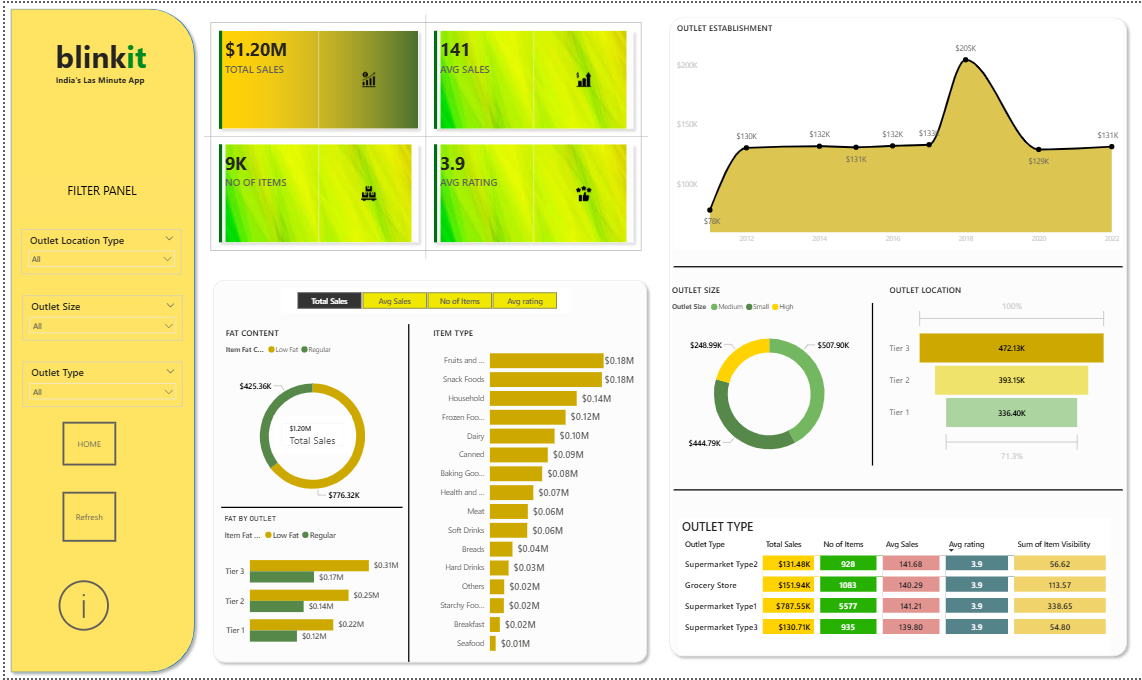

The dashboard page shown, as its layout file describes it:
{"tool":"powerbi","page":{"name":"Page 1","canvas":[1820,1080],"ordinal":0},"visuals":[{"type":"shape","box":[0,0,312.5,1080],"z":0},{"type":"textbox","box":[25,30,255,120],"z":1000},{"type":"textbox","box":[323,0,313,1080],"z":2000},{"type":"textbox","box":[76.7,108.3,170,41.7],"z":3000},{"type":"cardVisual","fields":{"Data":["BlinkIT Grocery Data.Total Sales","BlinkIT Grocery Data.Avg Sales","BlinkIT Grocery Data.No of Items","BlinkIT Grocery Data.Avg rating"]},"box":[312,14,724,400],"z":4000},{"type":"shape","box":[324,434,712,630],"z":5000},{"type":"donutChart","title":"FAT CONTENT","fields":{"Y":["BlinkIT Grocery Data.Total Sales"],"Category":["BlinkIT Grocery Data.Item Fat Content"]},"box":[348.3,518.3,288.3,305],"z":6000},{"type":"slicer","fields":{"Values":["Matrix.Matrix"]},"box":[441.7,455,465,40],"z":7000},{"type":"cardVisual","fields":{"Data":["BlinkIT Grocery Data.Total Sales"]},"box":[430,660,125,61.7],"z":8000},{"type":"clusteredBarChart","title":"FAT BY OUTLET","fields":{"Y":["BlinkIT Grocery Data.Total Sales"],"Category":["BlinkIT Grocery Data.Outlet Location Type"],"Series":["BlinkIT Grocery Data.Item Fat Content"]},"box":[346,818,290,230],"z":9000},{"type":"shape","box":[346,784,290,46],"z":10000},{"type":"shape","box":[638,514,16,540],"z":11000},{"type":"barChart","title":"ITEM TYPE","fields":{"Y":["BlinkIT Grocery Data.Total Sales"],"Category":["BlinkIT Grocery Data.Item Type"]},"box":[680,518,332,536],"z":12000},{"type":"shape","box":[1054,14,750,1040],"z":13000},{"type":"lineChart","title":"OUTLET ESTABLISHMENT","fields":{"Category":["BlinkIT Grocery Data.Outlet Establishment Year"],"Y":["BlinkIT Grocery Data.Total Sales"]},"box":[1070,30,718,364],"z":14000},{"type":"shape","box":[1070,410,718,24],"z":15000},{"type":"donutChart","title":"OUTLET SIZE","fields":{"Y":["BlinkIT Grocery Data.Total Sales"],"Category":["BlinkIT Grocery Data.Outlet Size"]},"box":[1062,450,322,306],"z":16000},{"type":"shape","box":[1384,480,8,260],"z":17000},{"type":"funnel","title":"OUTLET LOCATION","fields":{"Category":["BlinkIT Grocery Data.Outlet Location Type"],"Y":["Sum(BlinkIT Grocery Data.Sales)"]},"box":[1410,450,358,290],"z":18000},{"type":"shape","box":[1070,756,718,46],"z":19000},{"type":"pivotTable","title":"OUTLET TYPE","fields":{"Rows":["BlinkIT Grocery Data.Outlet Type"],"Values":["BlinkIT Grocery Data.Total Sales","BlinkIT Grocery Data.No of Items","BlinkIT Grocery Data.Avg Sales","BlinkIT Grocery Data.Avg rating","Sum(BlinkIT Grocery Data.Item Visibility)"]},"box":[1078,824,690,220],"z":20000},{"type":"slicer","fields":{"Values":["BlinkIT Grocery Data.Outlet Location Type"]},"box":[26,362,256,72],"z":21000},{"type":"slicer","fields":{"Values":["BlinkIT Grocery Data.Outlet Location Type"]},"box":[28,468,256,72],"z":22000},{"type":"slicer","fields":{"Values":["BlinkIT Grocery Data.Outlet Location Type"]},"box":[28,574,256,72],"z":23000},{"type":"textbox","box":[16,282,278,56],"z":24000},{"type":"actionButton","box":[76,914,130,100],"z":25000},{"type":"actionButton","box":[92,670,86,70],"z":26000},{"type":"actionButton","box":[92,782,86,80],"z":27000}]}

Visuals, with their boxes in screenshot pixels (x1, y1, x2, y2), scaled from the page's 1820x1080 canvas onto the 1142x680 screenshot:
shape: <bbox>0, 0, 196, 679</bbox>
textbox: <bbox>16, 19, 176, 94</bbox>
textbox: <bbox>203, 0, 399, 679</bbox>
textbox: <bbox>48, 68, 155, 94</bbox>
cardVisual - BlinkIT Grocery Data.Total Sales x BlinkIT Grocery Data.Avg Sales: <bbox>196, 9, 650, 261</bbox>
shape: <bbox>203, 273, 650, 670</bbox>
"FAT CONTENT" donutChart: <bbox>219, 326, 399, 518</bbox>
slicer - Matrix.Matrix: <bbox>277, 286, 569, 312</bbox>
cardVisual - BlinkIT Grocery Data.Total Sales: <bbox>270, 416, 348, 454</bbox>
"FAT BY OUTLET" clusteredBarChart: <bbox>217, 515, 399, 660</bbox>
shape: <bbox>217, 494, 399, 523</bbox>
shape: <bbox>400, 324, 410, 664</bbox>
"ITEM TYPE" barChart: <bbox>427, 326, 635, 664</bbox>
shape: <bbox>661, 9, 1132, 664</bbox>
"OUTLET ESTABLISHMENT" lineChart: <bbox>671, 19, 1122, 248</bbox>
shape: <bbox>671, 258, 1122, 273</bbox>
"OUTLET SIZE" donutChart: <bbox>666, 283, 868, 476</bbox>
shape: <bbox>868, 302, 873, 466</bbox>
"OUTLET LOCATION" funnel: <bbox>885, 283, 1109, 466</bbox>
shape: <bbox>671, 476, 1122, 505</bbox>
"OUTLET TYPE" pivotTable: <bbox>676, 519, 1109, 657</bbox>
slicer - BlinkIT Grocery Data.Outlet Location Type: <bbox>16, 228, 177, 273</bbox>
slicer - BlinkIT Grocery Data.Outlet Location Type: <bbox>18, 295, 178, 340</bbox>
slicer - BlinkIT Grocery Data.Outlet Location Type: <bbox>18, 361, 178, 407</bbox>
textbox: <bbox>10, 178, 184, 213</bbox>
actionButton: <bbox>48, 575, 129, 638</bbox>
actionButton: <bbox>58, 422, 112, 466</bbox>
actionButton: <bbox>58, 492, 112, 543</bbox>
